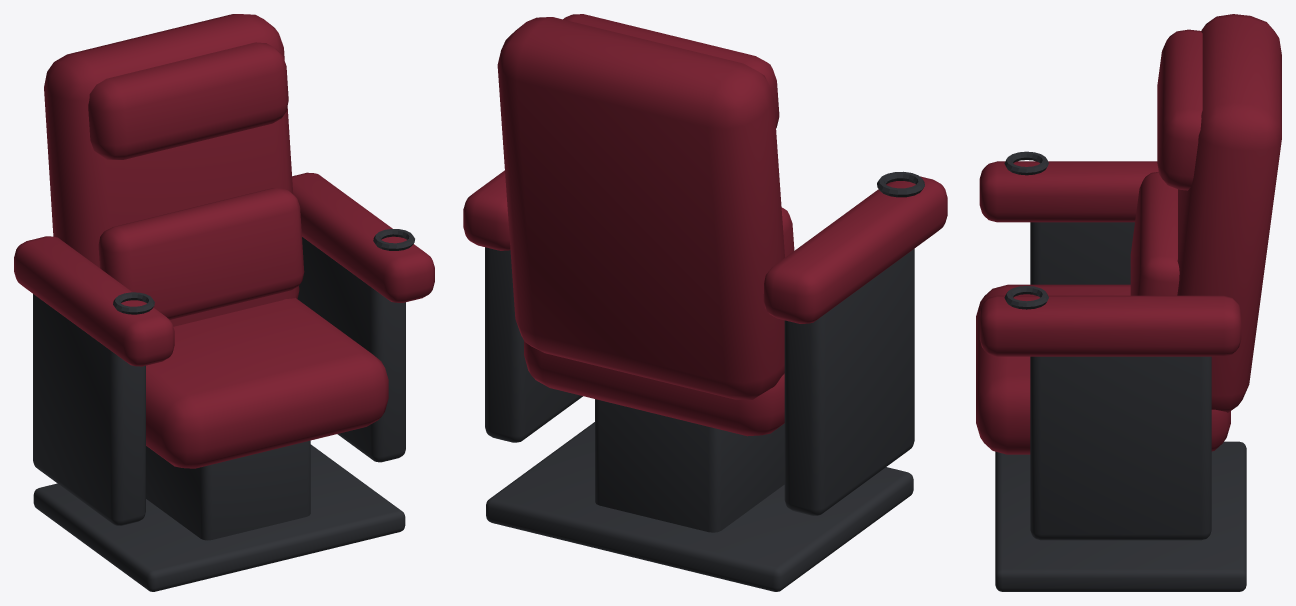
The model's file is standard.glb.
3 renders of one model, left to right at view 1: azimuth 30°, elevation 25°; view 2: azimuth 150°, elevation 25°; view 3: azimuth 270°, elevation 25°, orthographic. The views are drawn at different scales.
Parts seen in each view (by area): view 1: Seat cushion, Contoured back, Arm support, Lumbar cushion, Floor plate, Head cushion, Metal pedestal, Arm support.001, Padded armrest, Padded armrest.001, Cup holder, Cup holder.001; view 2: Contoured back, Arm support, Floor plate, Metal pedestal, Padded armrest, Seat cushion, Arm support.001, Padded armrest.001, Head cushion, Cup holder; view 3: Arm support.001, Contoured back, Floor plate, Padded armrest.001, Padded armrest, Seat cushion, Head cushion, Arm support, Lumbar cushion, Cup holder.001, Cup holder.
Part boxes in pixels (left/top/right/bottom): Seat cushion: left=146, top=297, right=388, bottom=468; Contoured back: left=44, top=14, right=299, bottom=326; Arm support: left=33, top=294, right=145, bottom=525; Lumbar cushion: left=98, top=188, right=304, bottom=319; Floor plate: left=33, top=444, right=405, bottom=591; Head cushion: left=88, top=42, right=288, bottom=159; Metal pedestal: left=146, top=440, right=310, bottom=540; Arm support.001: left=297, top=237, right=405, bottom=462; Padded armrest: left=14, top=236, right=174, bottom=366; Padded armrest.001: left=292, top=172, right=434, bottom=302; Cup holder: left=113, top=292, right=154, bottom=314; Cup holder.001: left=373, top=229, right=414, bottom=250; Contoured back: left=497, top=17, right=784, bottom=399; Arm support: left=784, top=249, right=914, bottom=515; Floor plate: left=486, top=422, right=913, bottom=591; Metal pedestal: left=595, top=399, right=784, bottom=532; Padded armrest: left=763, top=176, right=947, bottom=323; Seat cushion: left=524, top=341, right=784, bottom=436; Arm support.001: left=485, top=247, right=582, bottom=442; Padded armrest.001: left=463, top=170, right=510, bottom=250; Head cushion: left=563, top=14, right=779, bottom=128; Cup holder: left=877, top=171, right=924, bottom=197; Arm support.001: left=1030, top=356, right=1211, bottom=540; Contoured back: left=1177, top=14, right=1281, bottom=412; Floor plate: left=995, top=441, right=1246, bottom=591; Padded armrest.001: left=979, top=295, right=1241, bottom=356; Padded armrest: left=979, top=161, right=1158, bottom=222; Seat cushion: left=976, top=284, right=1230, bottom=454; Head cushion: left=1157, top=29, right=1202, bottom=190; Arm support: left=1030, top=222, right=1134, bottom=284; Lumbar cushion: left=1130, top=172, right=1179, bottom=295; Cup holder.001: left=1004, top=286, right=1048, bottom=309; Cup holder: left=1004, top=151, right=1048, bottom=175.
Bounding box in the file's own units: 1.08 × 1.48 × 0.8758.
